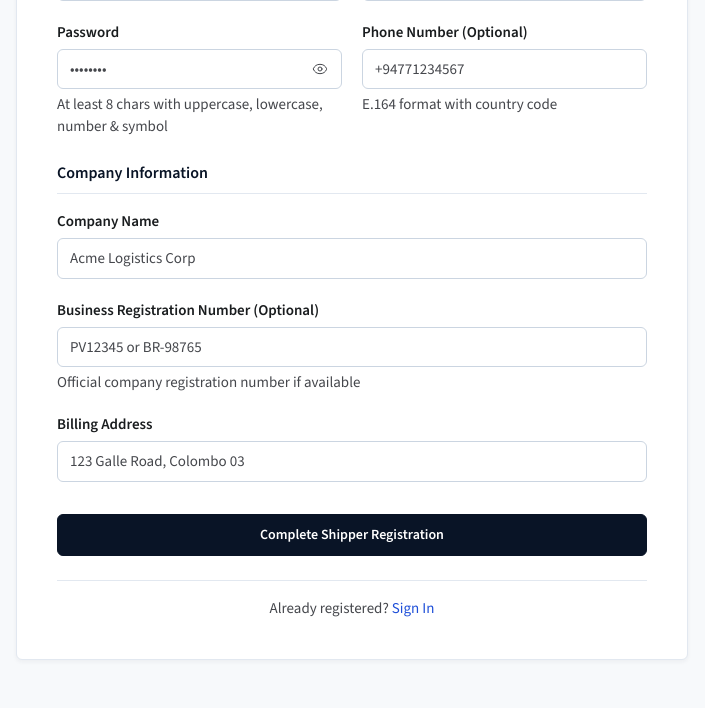
Scenario: RegisterPage — Shipper Registration Form › validates every input in advance and blocks submission on empty fields
(page scrolled)
Step 1. Click the button "Complete Shipper Registration" → [352, 534], box x1=57 y1=514 x2=647 y2=556
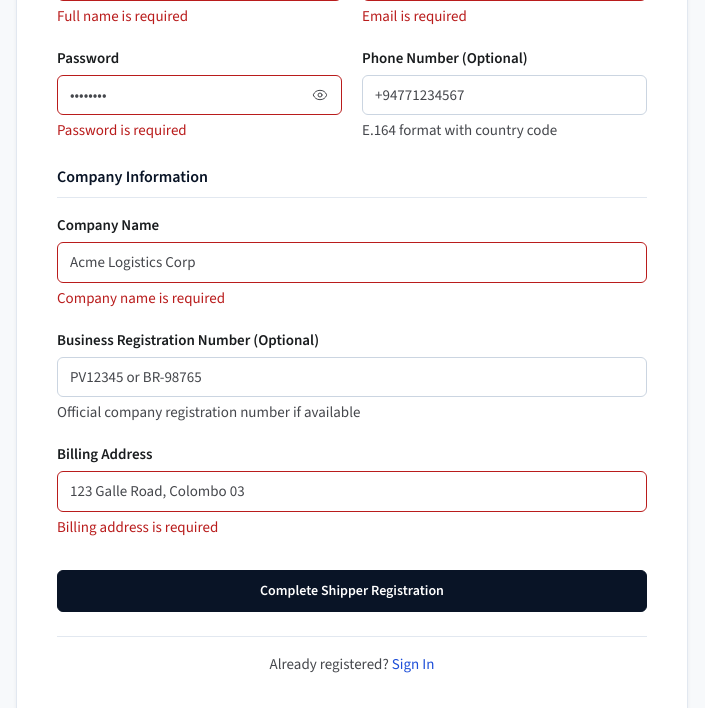
Now the text "Full name is required" is shown, box x1=57 y1=6 x2=188 y2=26
Now the text "Email is required" is shown, box x1=362 y1=6 x2=467 y2=26
Now the text "Password is required" is shown, box x1=57 y1=120 x2=187 y2=140
